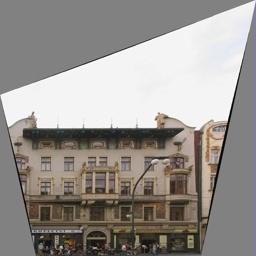building: (0, 106, 203, 256)
